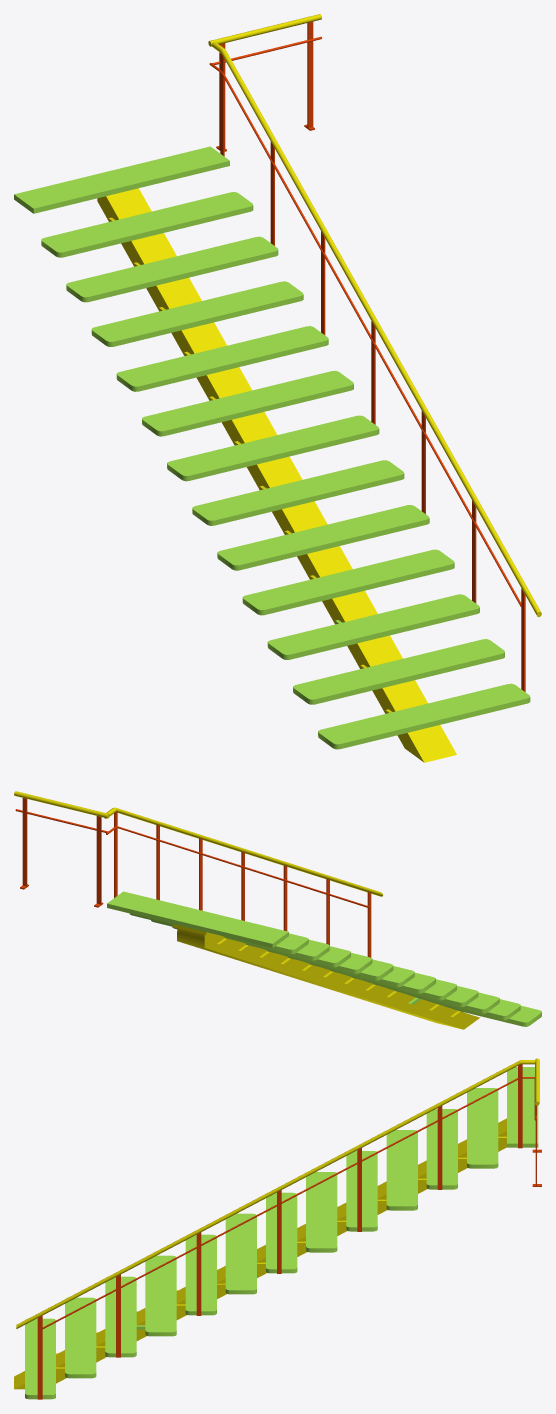
The model's file is Stairs.fbx.
3 renders of one model, top to bottom at view 1: azimuth 30°, elevation 25°; view 2: azimuth 150°, elevation 25°; view 3: azimuth 270°, elevation 25°, orthographic. The views are drawn at different scales.
Visible parts, largest first — view 1: Stairs, Railing, StairsTile; view 2: Stairs, Railing, StairsTile; view 3: Stairs, Railing, StairsTile.
Part boxes in pixels (x1=…): Stairs: x1=14, y1=146, x2=530, y2=762; Railing: x1=209, y1=42, x2=541, y2=691; StairsTile: x1=208, y1=14, x2=321, y2=151; Stairs: x1=107, y1=891, x2=541, y2=1029; Railing: x1=104, y1=807, x2=382, y2=957; StairsTile: x1=14, y1=791, x2=109, y2=907; Stairs: x1=14, y1=1067, x2=538, y2=1399; Railing: x1=16, y1=1060, x2=535, y2=1399; StairsTile: x1=532, y1=1058, x2=541, y2=1186.
Size of the model in its own units: 280 by 398 by 525.
